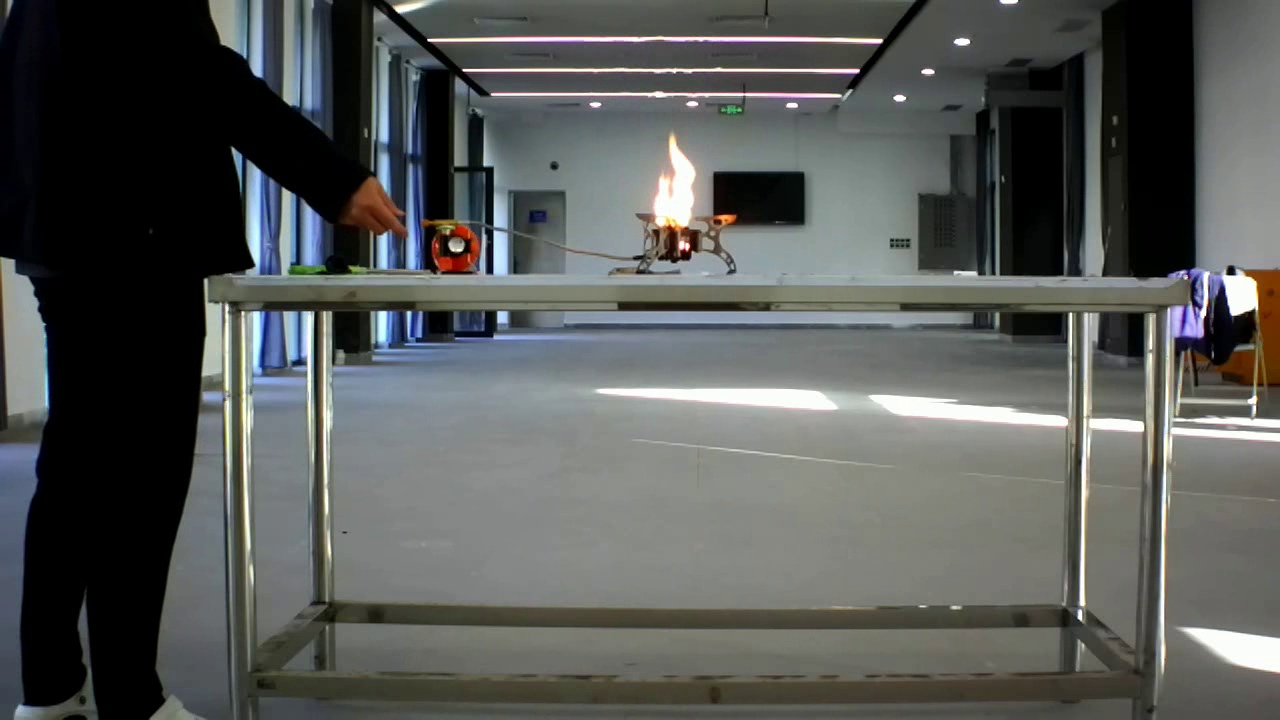Fire: (636, 124, 742, 263)
